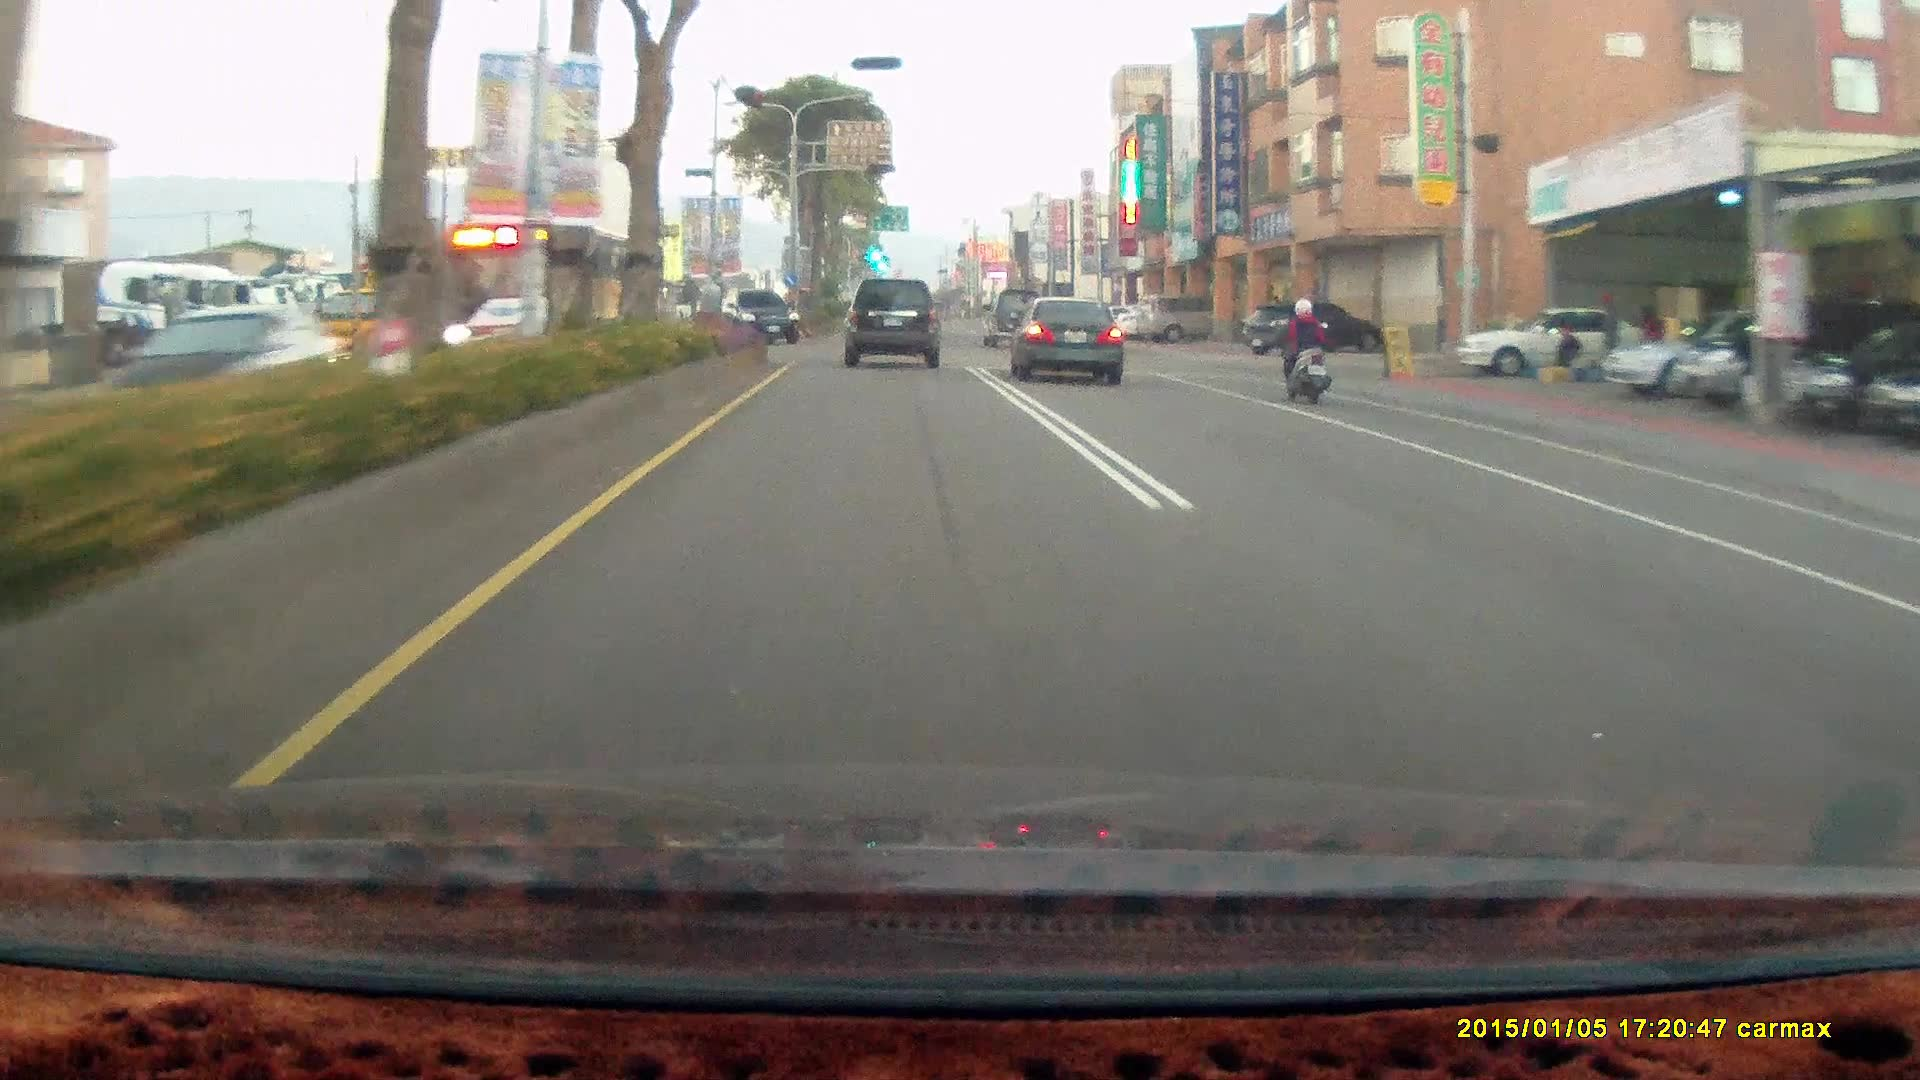pedestrian: (1597, 291, 1622, 377), (1553, 322, 1582, 380), (1637, 304, 1662, 366)
rider: (1266, 285, 1344, 417), (1273, 296, 1331, 403)
vehicle: (416, 216, 671, 364), (445, 221, 664, 365), (98, 302, 350, 427), (100, 303, 353, 405), (1664, 302, 1875, 419), (1674, 299, 1888, 409), (1602, 309, 1846, 403), (1607, 305, 1823, 400), (1443, 305, 1649, 380), (1453, 304, 1648, 377), (1802, 320, 1920, 432), (1801, 320, 1919, 431), (1014, 298, 1133, 393), (1002, 293, 1122, 382), (842, 281, 945, 372), (841, 278, 941, 369), (1242, 302, 1386, 358), (1240, 302, 1381, 358), (716, 289, 800, 349), (1864, 353, 1919, 447), (1142, 294, 1237, 344), (716, 288, 800, 343), (1130, 295, 1216, 347), (980, 287, 1045, 346)
